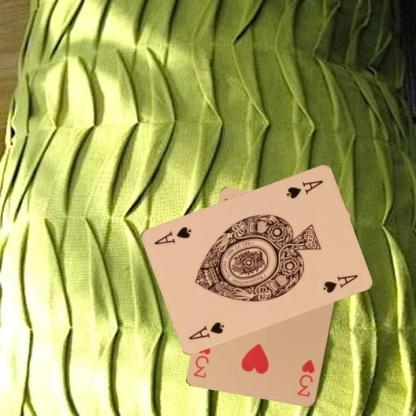3h: (294, 357, 316, 399)
As: (284, 177, 324, 200), (186, 318, 226, 341)
